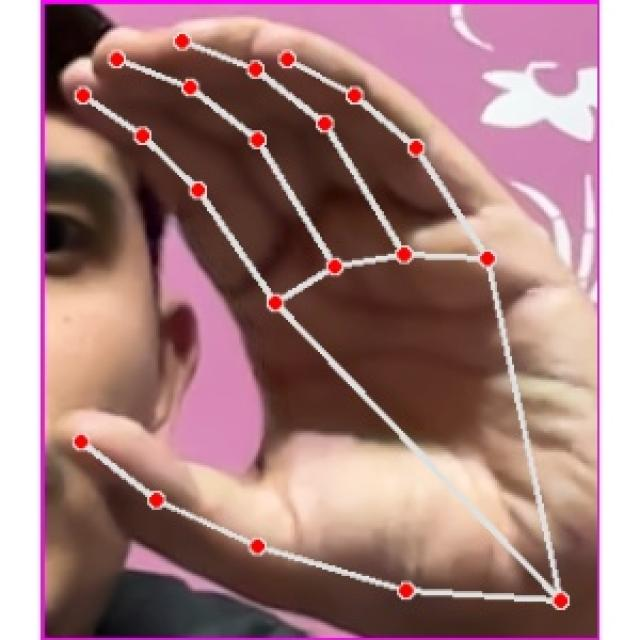C: (56, 15, 604, 640)
